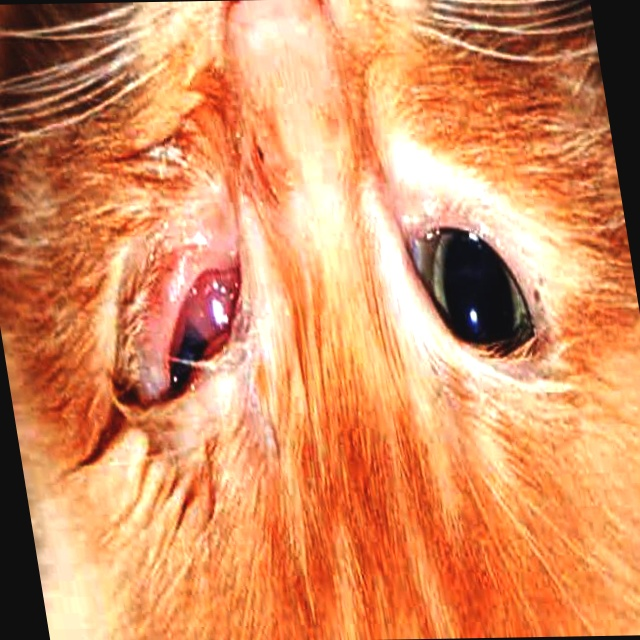eye_infection: (397, 221, 545, 358), (149, 262, 250, 393)
